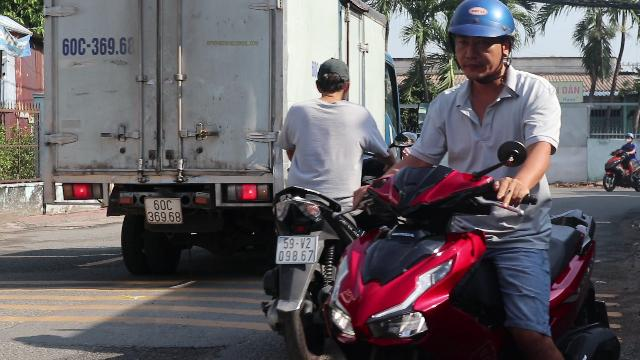helmet: (447, 0, 518, 82)
licenseplate: (276, 236, 316, 262)
motorcyclist: (360, 1, 628, 355), (252, 56, 400, 356)
nohelmet: (313, 57, 352, 99)
